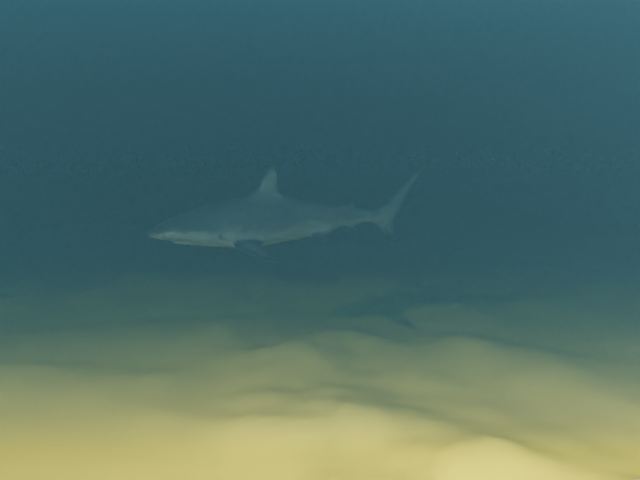Carribean Shark.001: (146, 164, 424, 263)
